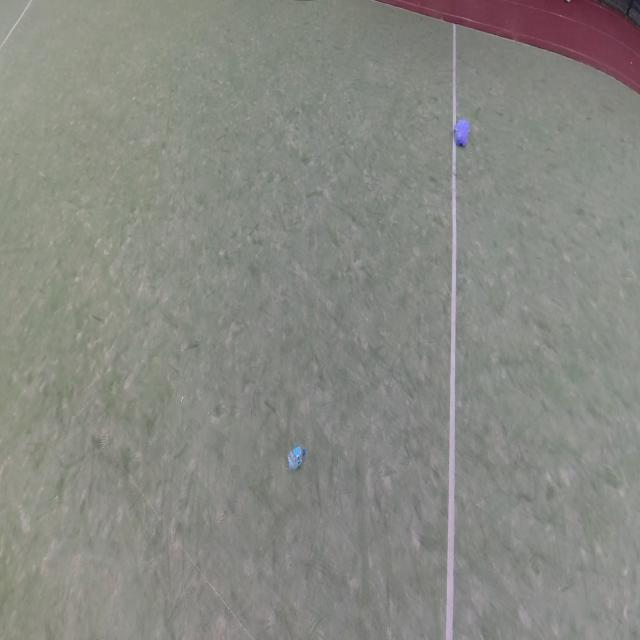rubbish: (453, 118, 471, 148), (286, 446, 305, 471)
